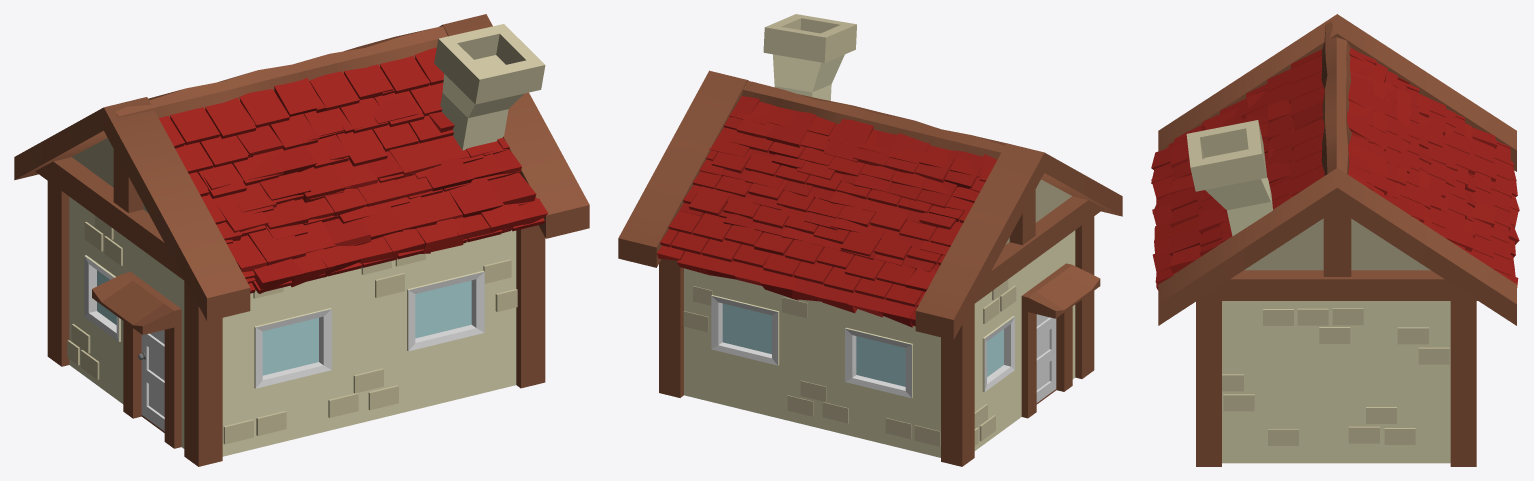
The model's file is House2.fbx.
The picture shows the model from 3 angles, left to right: view 1: azimuth 30°, elevation 25°; view 2: azimuth 150°, elevation 25°; view 3: azimuth 270°, elevation 25°; orthographic projection. The views are drawn at different scales.
Visible parts, largest first — view 1: Walls, RoofPanelsOld, RoofBeams, RoofPanelsNew, Chimney, DoorFrame, WallBricks, MiddleBeam, Poal3, Windows, Poal0, Poal2 (+2 smaller); view 2: Walls, RoofPanelsNew, RoofBeams, RoofPanelsOld, Chimney, DoorFrame, MiddleBeam, WallBricks, Poal2, Windows, Poal1, Poal3 (+2 smaller); view 3: RoofBeams, Walls, RoofPanelsNew, RoofPanelsOld, Chimney, WallBricks, Poal1, RoofInside, Poal0, MiddleBeam.
Boxes of the visible parts, <box> form: Walls: <box>69,197,516,456</box>; RoofPanelsOld: <box>197,75,548,293</box>; RoofBeams: <box>14,14,589,321</box>; RoofPanelsNew: <box>159,47,544,293</box>; Chimney: <box>434,24,545,150</box>; DoorFrame: <box>92,272,181,448</box>; WallBricks: <box>67,215,517,444</box>; MiddleBeam: <box>116,26,447,117</box>; Poal3: <box>184,281,222,466</box>; Windows: <box>97,270,471,375</box>; Poal0: <box>516,225,545,388</box>; Poal2: <box>47,181,69,366</box>; Walls: <box>684,230,1075,457</box>; RoofPanelsNew: <box>660,107,992,307</box>; RoofBeams: <box>618,70,1122,340</box>; RoofPanelsOld: <box>657,96,997,327</box>; Chimney: <box>763,14,856,100</box>; DoorFrame: <box>1021,263,1100,418</box>; MiddleBeam: <box>742,81,1006,159</box>; WallBricks: <box>683,279,1016,446</box>; Poal2: <box>941,304,974,466</box>; Windows: <box>722,303,1003,386</box>; Poal1: <box>659,259,683,397</box>; Poal3: <box>1075,216,1094,378</box>; RoofBeams: <box>1158,14,1516,325</box>; Walls: <box>1222,301,1450,463</box>; RoofPanelsNew: <box>1156,49,1511,290</box>; RoofPanelsOld: <box>1151,47,1519,287</box>; Chimney: <box>1186,120,1272,236</box>; WallBricks: <box>1222,308,1449,445</box>; Poal1: <box>1450,301,1476,466</box>; RoofInside: <box>1244,218,1430,270</box>; Poal0: <box>1196,301,1221,466</box>; MiddleBeam: <box>1321,22,1351,175</box>.
Bounding box in the file's own units: 9.55 × 7.66 × 8.16.
